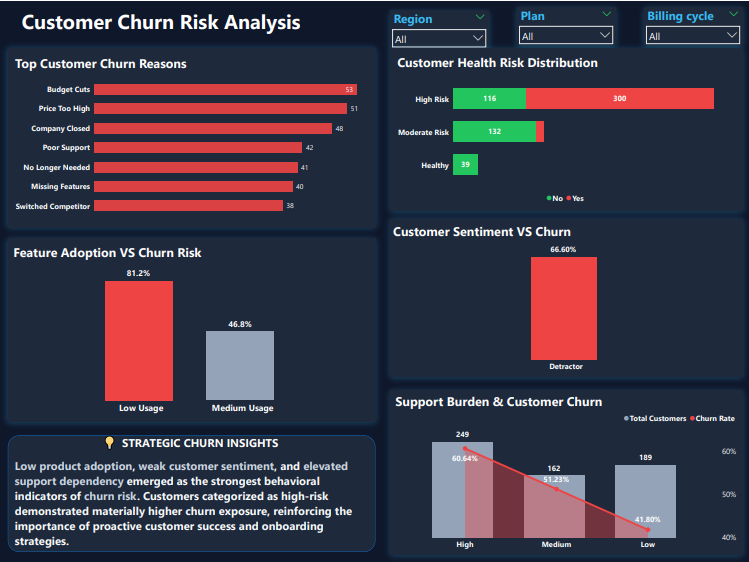

What the dashboard file says about the page in this screenshot:
{"tool":"powerbi","page":{"name":"Churn Deep Dive","canvas":[1600,1200],"ordinal":2},"visuals":[{"type":"textbox","box":[46.1,12.8,853.6,64.1],"z":0},{"type":"slicer","fields":{"Values":["subscriptions.region"]},"box":[832,20.1,209.7,80.3],"z":1000},{"type":"slicer","fields":{"Values":["subscriptions.plan"]},"box":[1102.8,13.4,210,80.3],"z":2000},{"type":"slicer","fields":{"Values":["subscriptions.billing_cycle"]},"box":[1374,13.4,209.7,80.3],"z":3000},{"type":"barChart","title":"Top Customer Churn Reasons","fields":{"Category":["subscriptions.churn_reason"],"Y":["subscriptions.Churned Customers"]},"box":[15.6,100.4,785.1,381.4],"z":4000},{"type":"barChart","title":"Customer Health Risk Distribution","fields":{"Category":["subscriptions.Health Segment"],"Series":["subscriptions.churned"],"Y":["subscriptions.Total Customers"]},"box":[832,100.4,751.7,345.7],"z":5000},{"type":"clusteredColumnChart","title":"Feature Adoption VS Churn Risk","fields":{"Category":["subscriptions.Usage Segment"],"Y":["subscriptions.Churn Rate"]},"box":[15.6,506.3,785.1,390.3],"z":6000},{"type":"clusteredColumnChart","title":"Customer Sentiment VS Churn","fields":{"Category":["subscriptions.NPS Category"],"Y":["subscriptions.Churn Rate"]},"box":[832,463.9,751.7,336.8],"z":7000},{"type":"lineClusteredColumnComboChart","title":"Support Burden & Customer Churn","fields":{"Category":["subscriptions.Support Segment"],"Y":["subscriptions.Total Customers"],"Y2":["subscriptions.Churn Rate"]},"box":[832,829.7,751.7,350.2],"z":8000},{"type":"shape","box":[15.6,925.7,785.1,249.8],"z":9000},{"type":"textbox","box":[62.5,903.3,689.2,71.4],"z":10000},{"type":"textbox","box":[31.2,974.7,751.7,200.7],"z":11000}]}

Visuals, with their boxes in screenshot pixels (x1, y1, x2, y2), scaled from the page's 1600x1200 canvas onto the 749x562 screenshot:
textbox: BBox(22, 6, 421, 36)
slicer - subscriptions.region: BBox(389, 9, 488, 47)
slicer - subscriptions.plan: BBox(516, 6, 615, 44)
slicer - subscriptions.billing_cycle: BBox(643, 6, 741, 44)
"Top Customer Churn Reasons" barChart: BBox(7, 47, 375, 226)
"Customer Health Risk Distribution" barChart: BBox(389, 47, 741, 209)
"Feature Adoption VS Churn Risk" clusteredColumnChart: BBox(7, 237, 375, 420)
"Customer Sentiment VS Churn" clusteredColumnChart: BBox(389, 217, 741, 375)
"Support Burden & Customer Churn" lineClusteredColumnComboChart: BBox(389, 389, 741, 553)
shape: BBox(7, 434, 375, 551)
textbox: BBox(29, 423, 352, 456)
textbox: BBox(15, 456, 366, 550)
